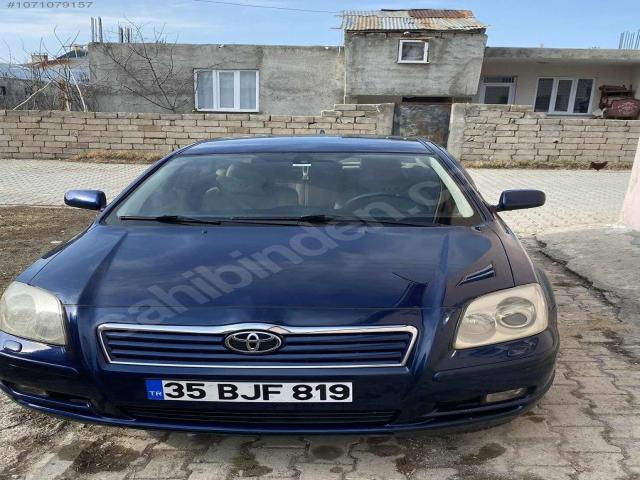plaka: (148, 380, 353, 403)
